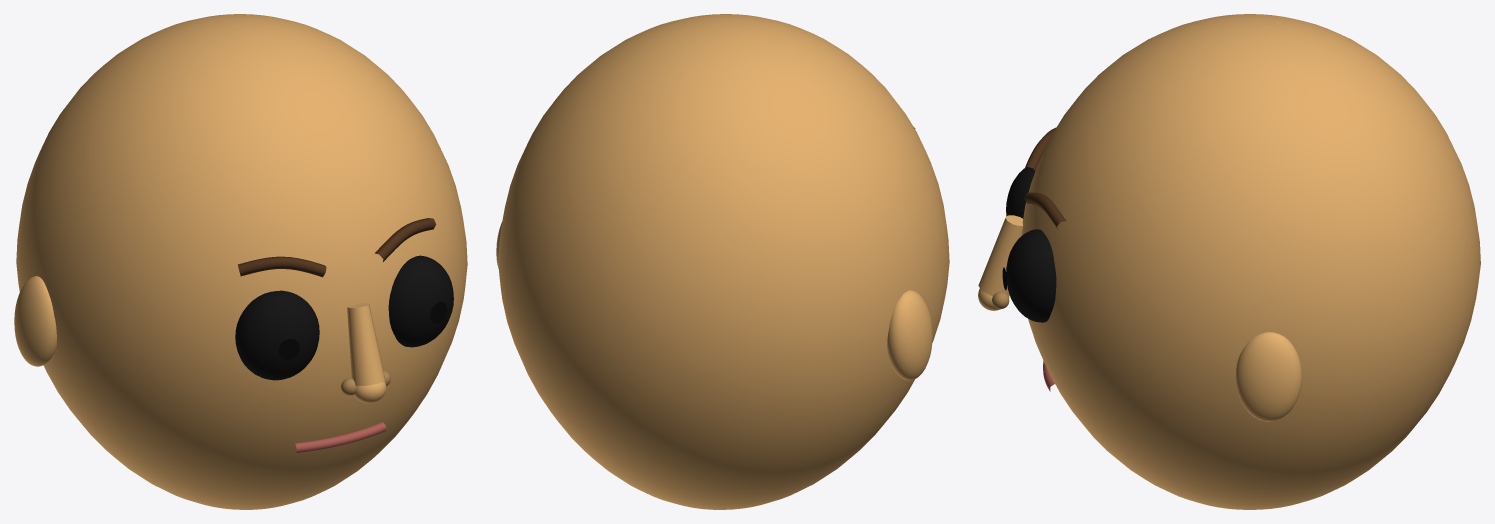
The model's file is 10-noirs.glb.
3 renders of one model, left to right at view 1: azimuth 30°, elevation 25°; view 2: azimuth 150°, elevation 25°; view 3: azimuth 270°, elevation 25°, orthographic.
Bounding box in the file's own units: 0.3087 × 0.321 × 0.3166.
